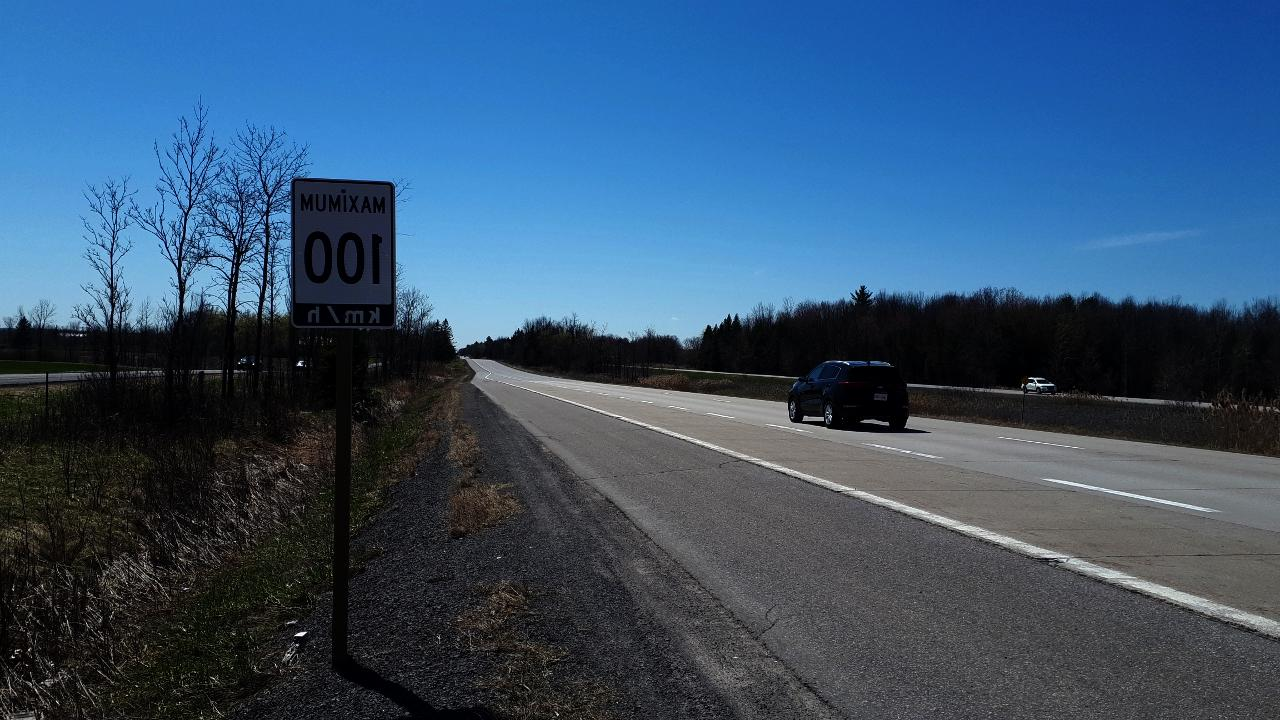speed limit sign: (289, 183, 396, 330)
